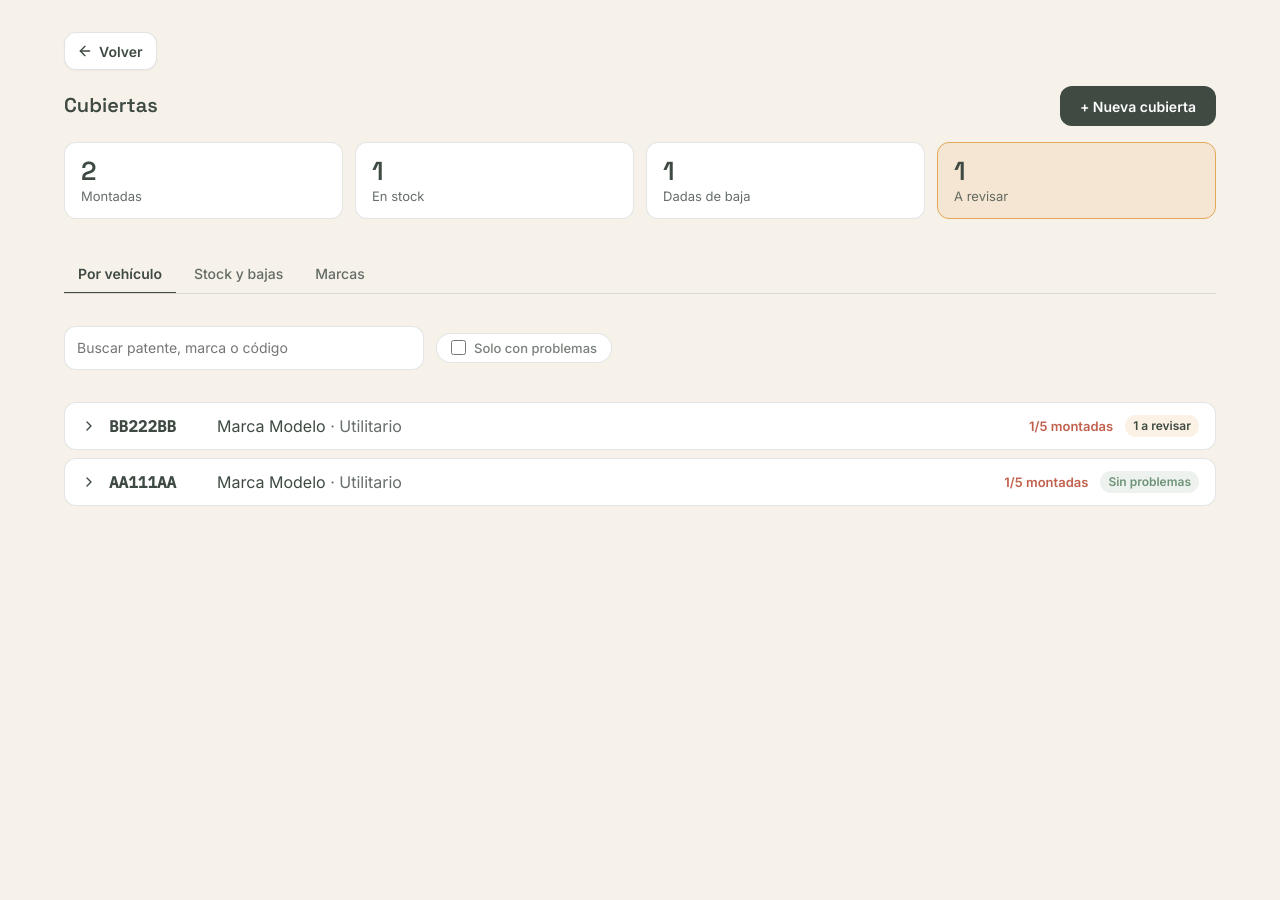
inventario de cubiertas (CAM-157) › al abrir un vehículo muestra sus posiciones y qué reportaron
Later steps or results of the test are not shown.
Click the button "BB222BB Marca Modelo · Utilitario 1/5 montadas 1 a revisar" at (143, 426), box [65,403,1215,449]
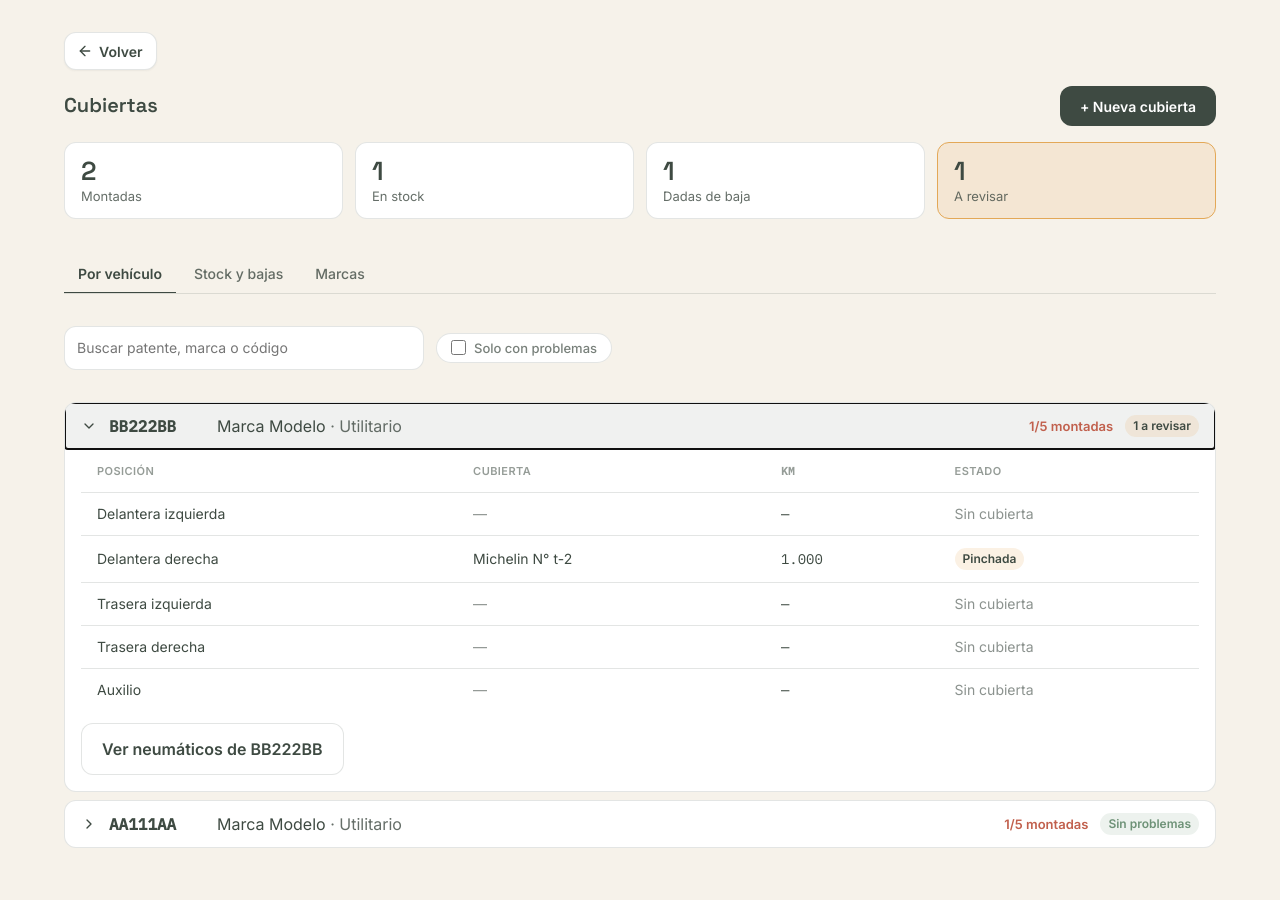
Expected: the text "Pinchada" is shown, [954,548,1024,570]
